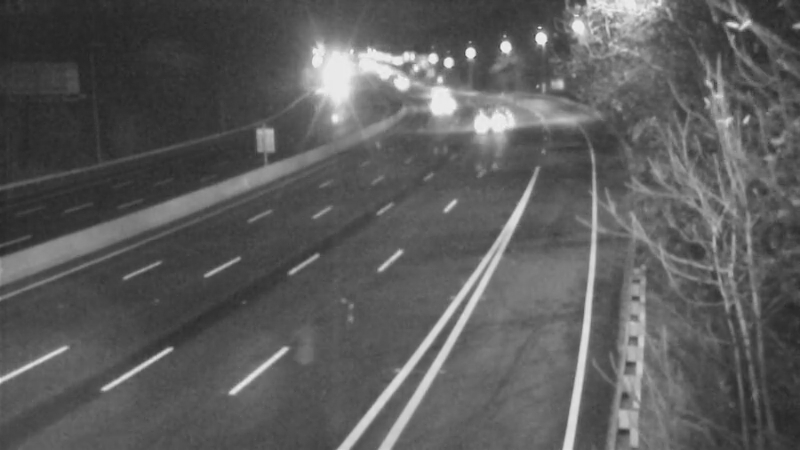vehicle: (409, 66, 459, 116), (416, 85, 466, 135), (457, 100, 507, 150)
